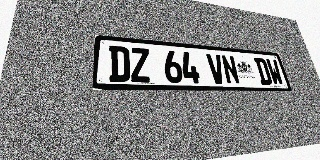4: (180, 51, 201, 83)
6: (163, 50, 184, 83)
D: (109, 45, 130, 82), (254, 57, 273, 85)
N: (220, 55, 241, 84)
V: (206, 54, 226, 84)
W: (265, 58, 285, 85)
Z: (130, 47, 151, 82)
